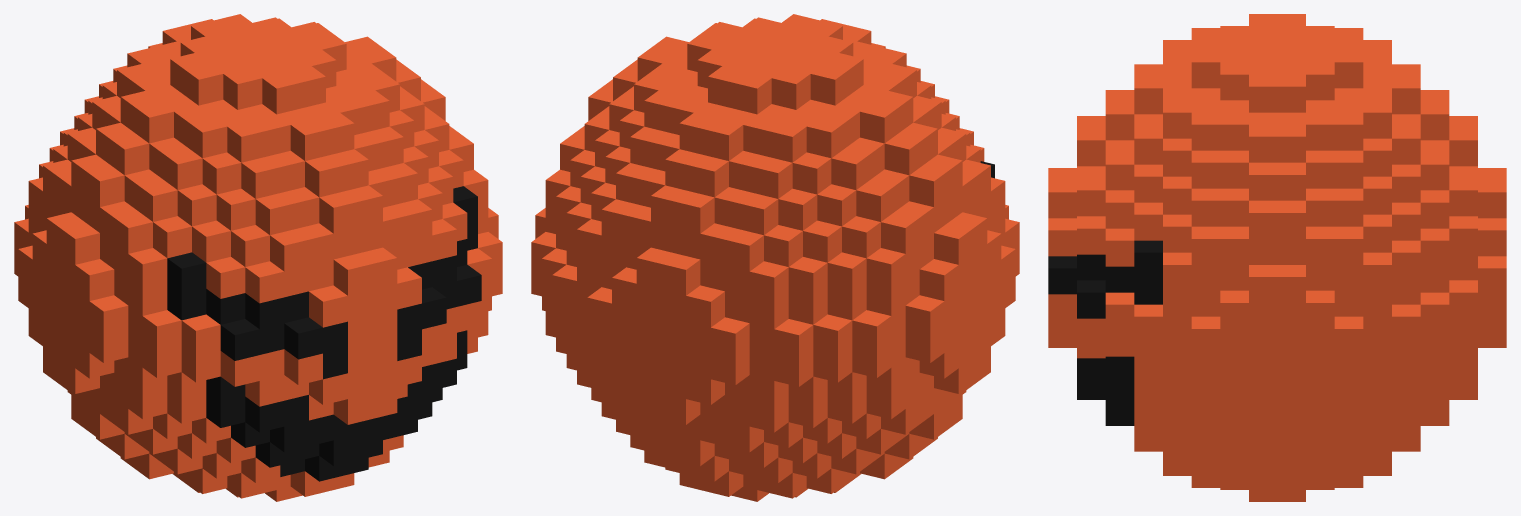
Rendered from Halloween.glb.
The picture shows the model from 3 angles, left to right: view 1: azimuth 30°, elevation 25°; view 2: azimuth 150°, elevation 25°; view 3: azimuth 270°, elevation 25°; orthographic projection.
Parts seen in each view (by area): view 1: Node; view 2: Node; view 3: Node.
Boxes of the visible parts, bbox=[...] form: Node: bbox=[14, 14, 502, 501]; Node: bbox=[531, 14, 1019, 501]; Node: bbox=[1048, 14, 1506, 501].
Bounding box in the file's own units: 16 × 16 × 16.
1 material, 1 textured.
